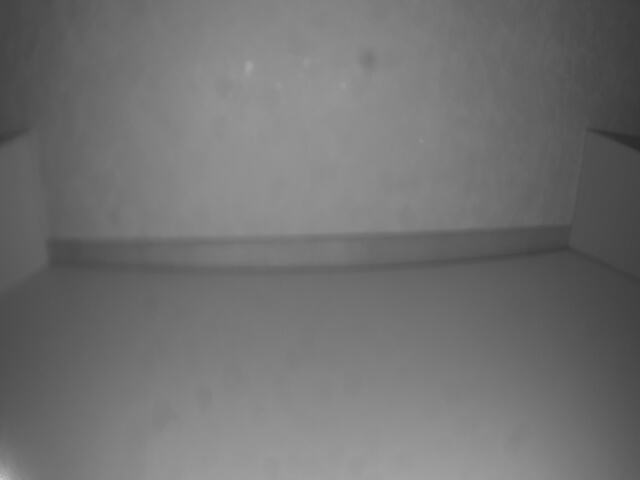Point: (568, 128, 640, 286), (0, 132, 48, 300)
